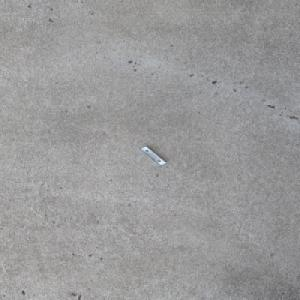ClampPart: (138, 145, 167, 166)
